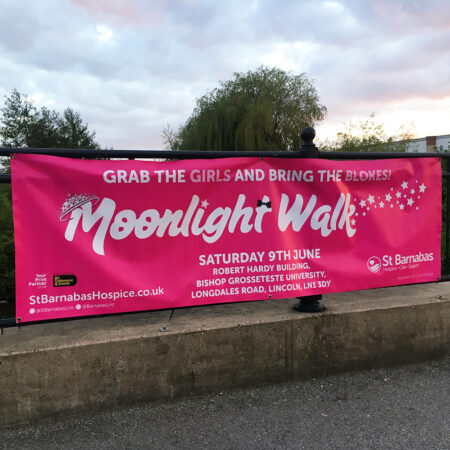vinyl banner: (3, 141, 450, 327)
